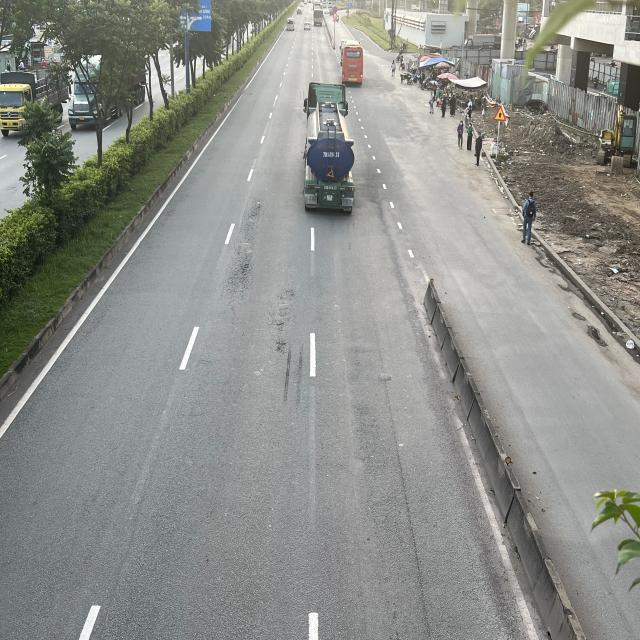coach: (341, 43, 364, 85)
container: (301, 81, 354, 216)
